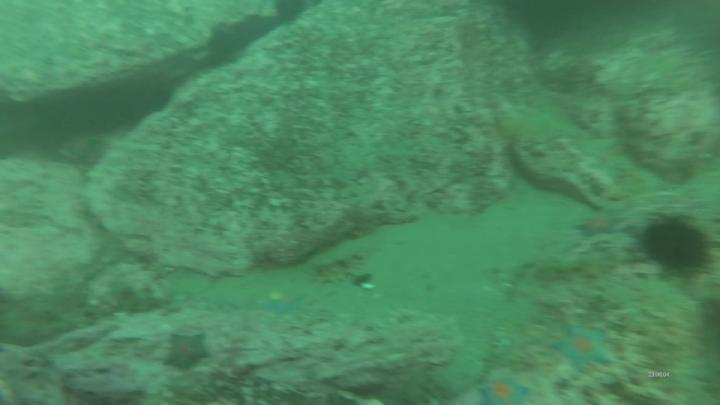echinus: (638, 213, 714, 282)
starfish: (553, 320, 619, 373), (163, 332, 214, 375), (479, 372, 536, 405), (259, 290, 309, 321), (575, 213, 626, 241)
